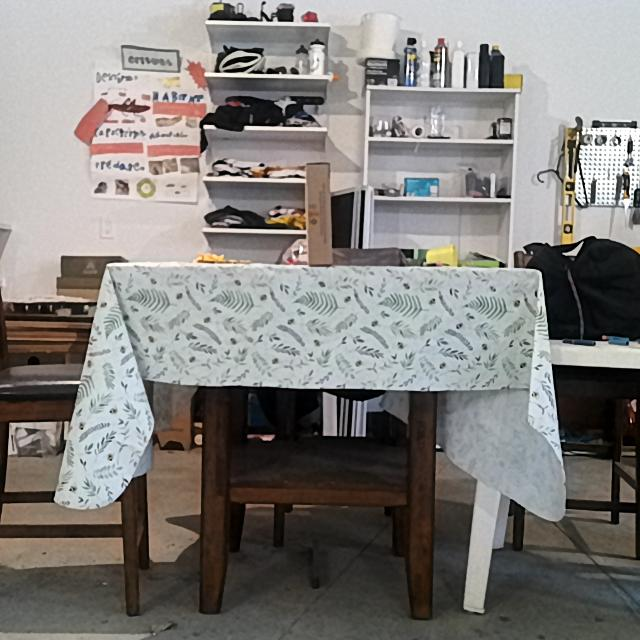box: (306, 164, 333, 263)
